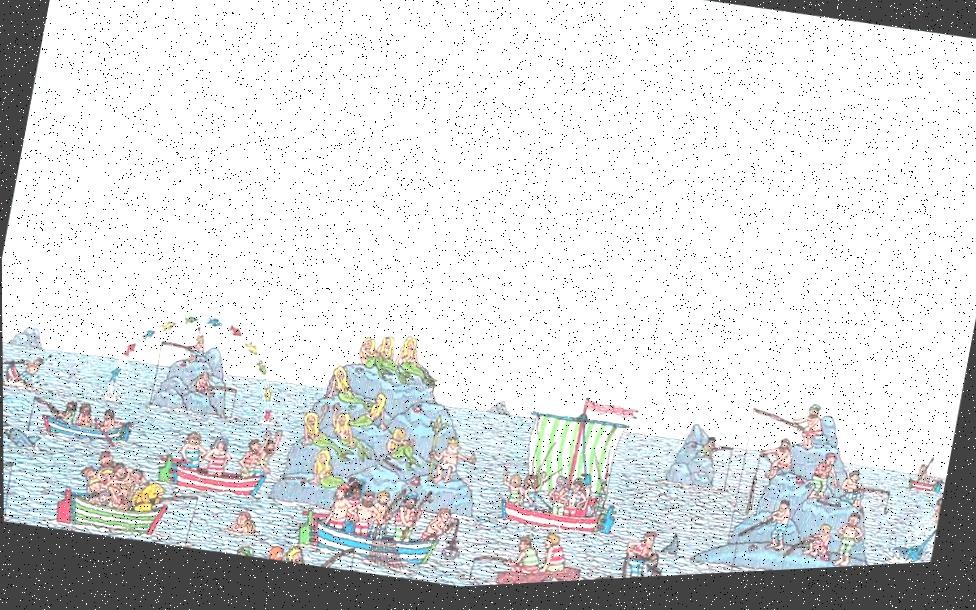waldo: (344, 480, 366, 505)
